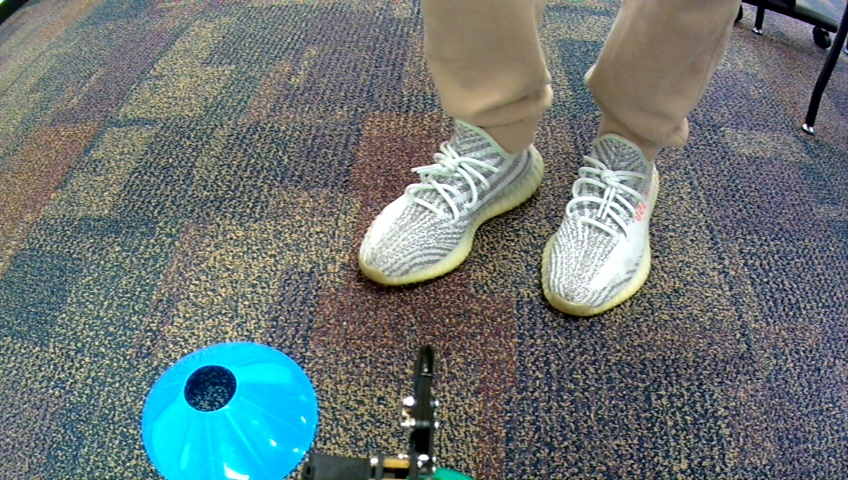cone: (139, 341, 320, 480)
